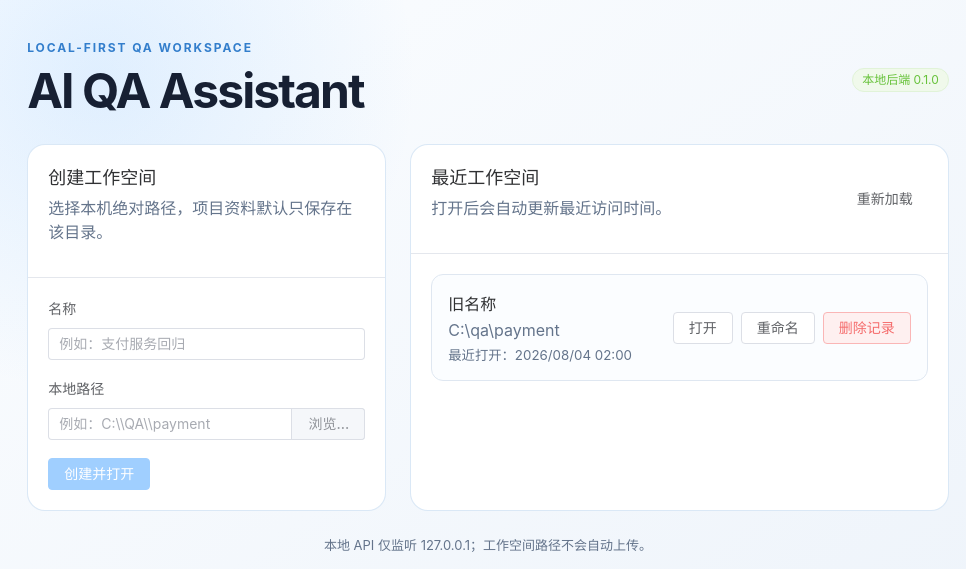
WorkspaceView › renames a workspace from the recent list
The width and height of the screenshot is (966, 569).
Click the button with test id "rename-workspace-workspace-1": (778, 328) top-left (741, 312), bottom-right (815, 344)
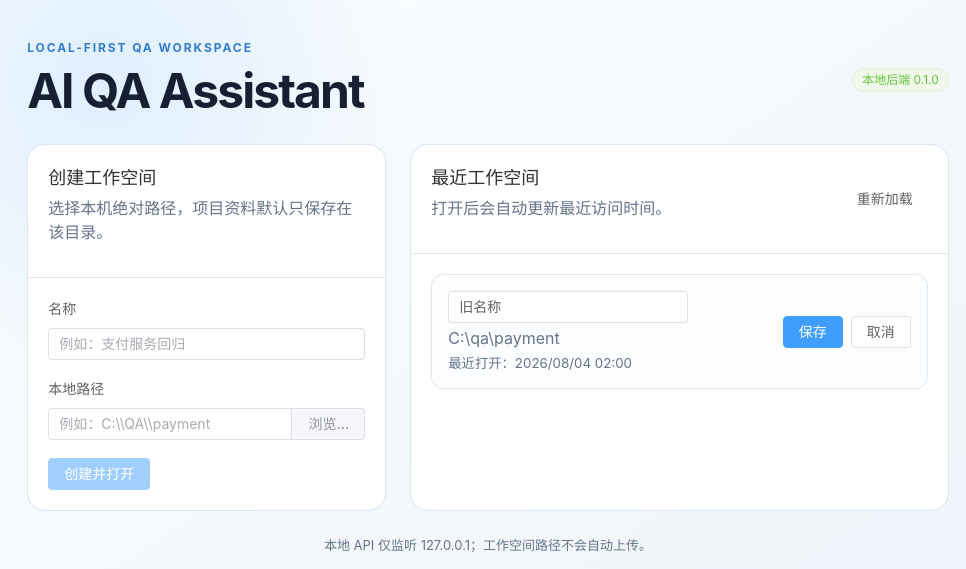
Replace the text in the field with test id "rename-input-workspace-1" with "新名称": (568, 307) top-left (459, 292), bottom-right (677, 322)
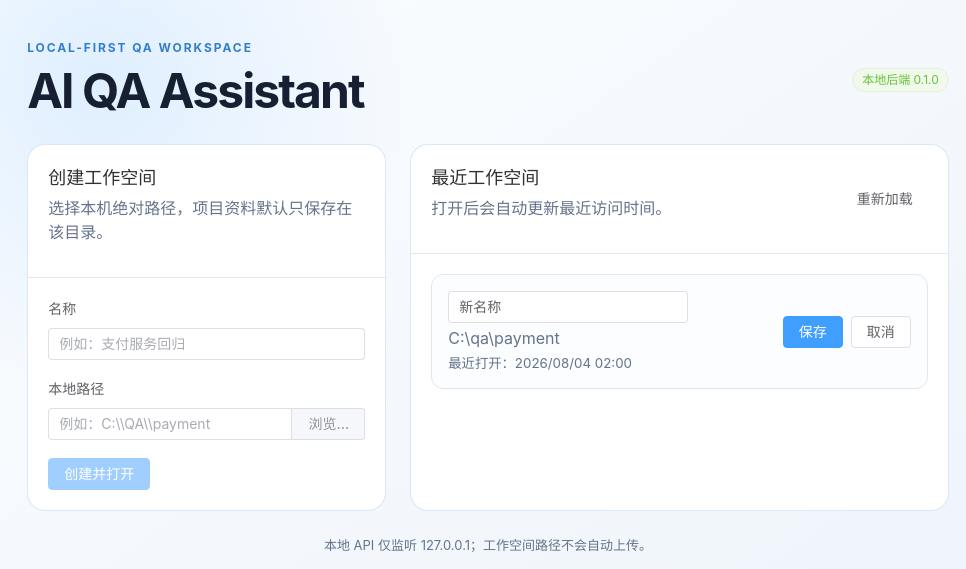
Click the button with test id "save-rename-workspace-1": (813, 332) top-left (783, 316), bottom-right (843, 348)
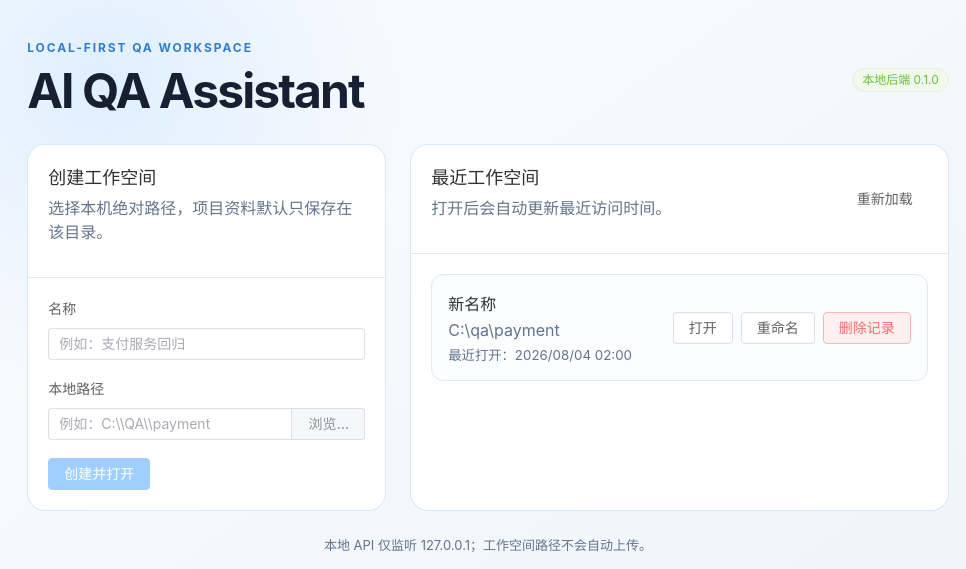
Expected: the text "新名称" is shown, top-left (448, 294), bottom-right (496, 314)
